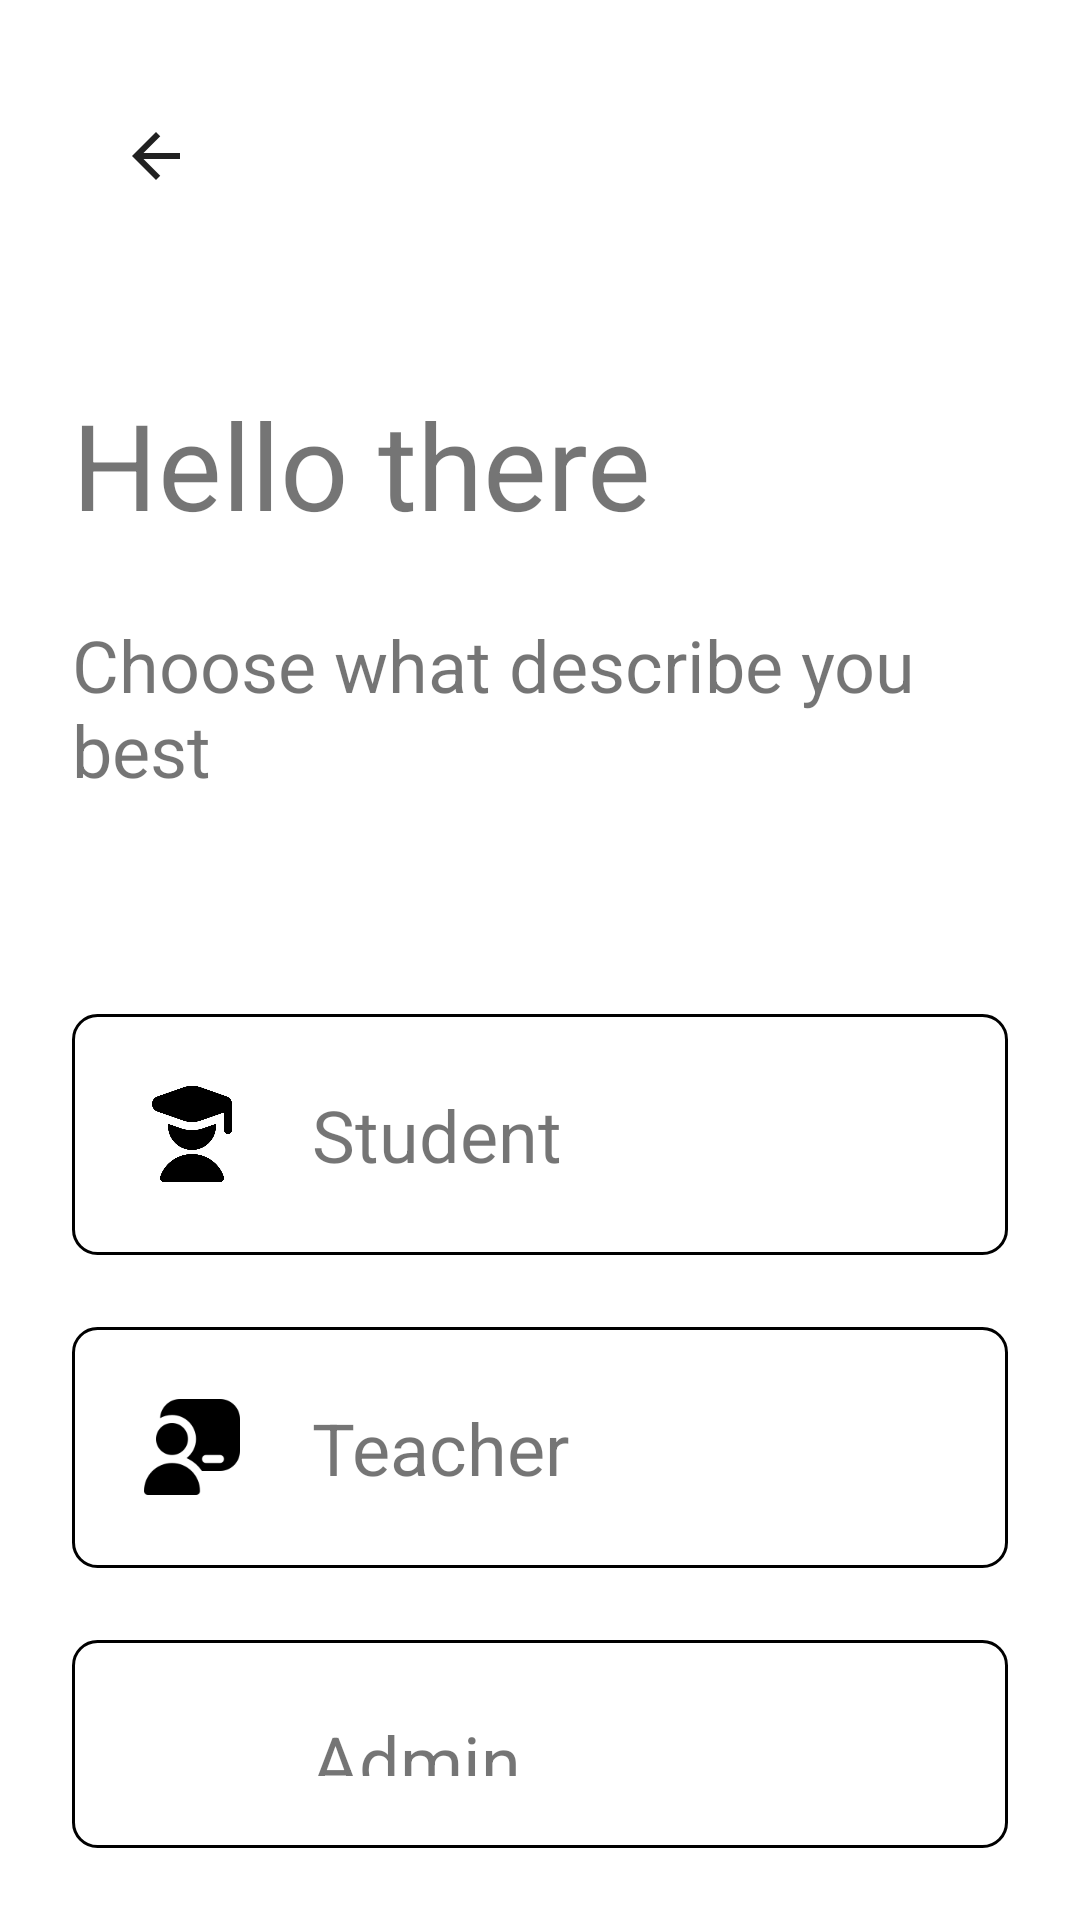

Screen size 1080×1920. Icon name, then its box in pixels as (x1, y1, x2, y2):
Back button: (132, 132, 180, 180)
